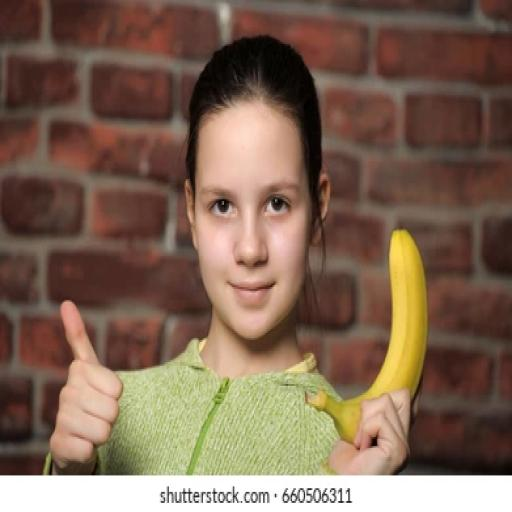banana: (307, 229, 428, 442)
